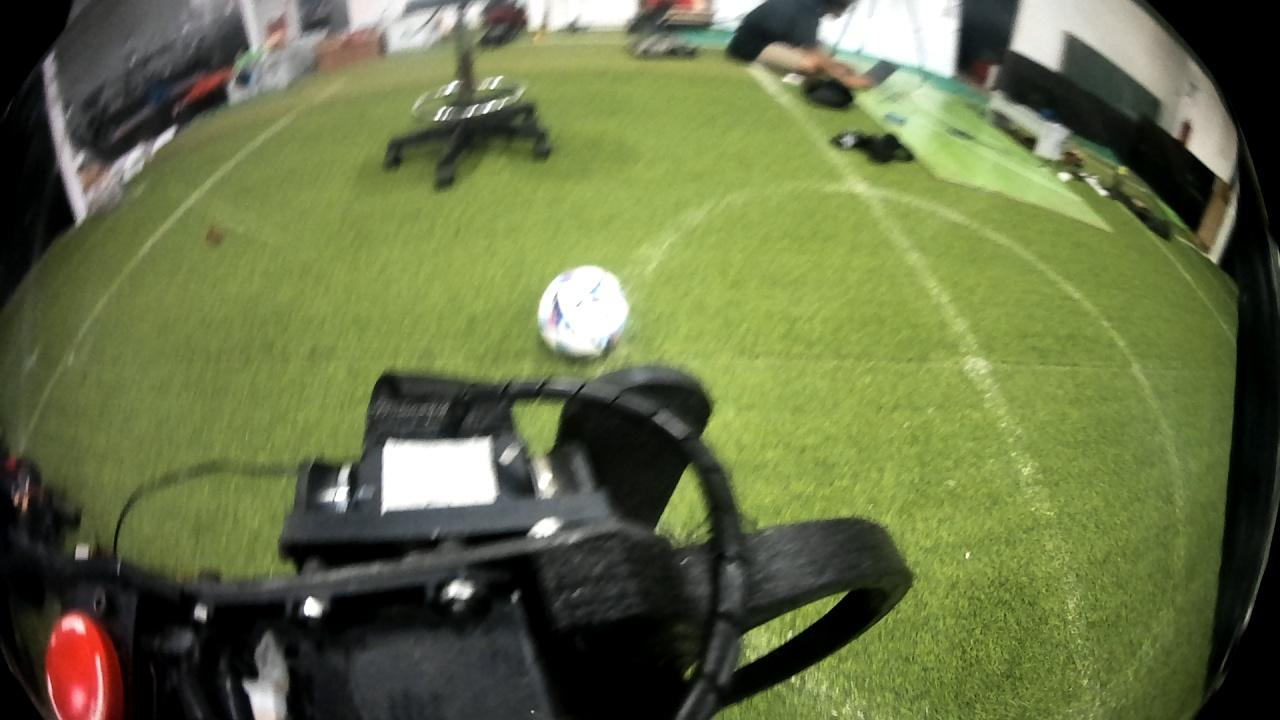ball: (533, 257, 633, 370)
